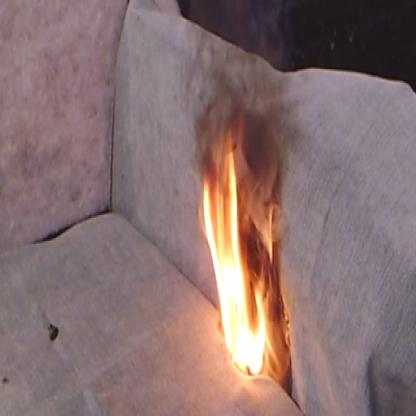fire: (200, 160, 269, 376)
smoke: (191, 0, 296, 384)
